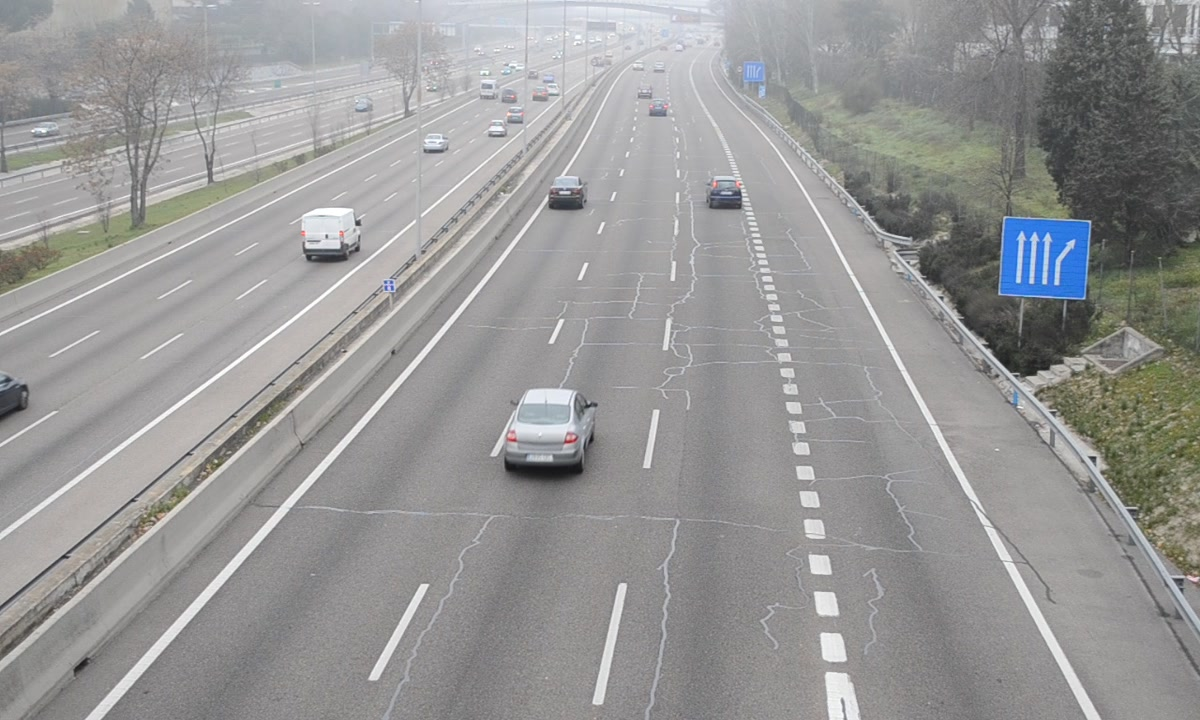car: (506, 389, 591, 470), (707, 177, 743, 209), (548, 175, 585, 206)
